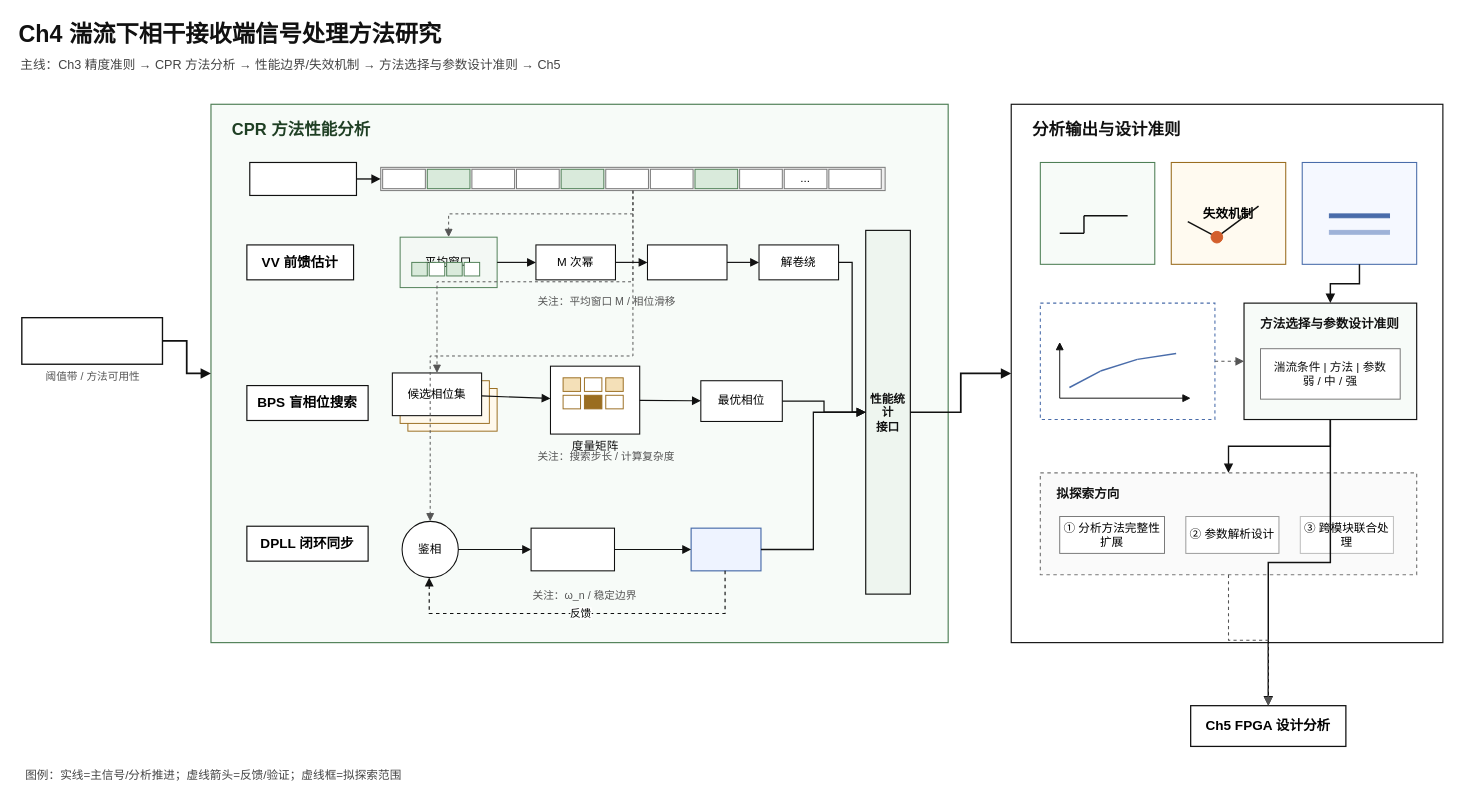
Image size: 1460x803. Some labels were removed from this diagram. The centre of each missing label's shape, as x and y in pixels:
Ch3 精度设计准则: (x=92, y=340)
NCO: (x=725, y=549)
参数敏感性: (x=1359, y=213)
性能边界: (x=1097, y=213)
接收基带序列: (x=303, y=178)
环路滤波: (x=572, y=549)
窗口平均: (x=687, y=262)
诊断面板: (x=1127, y=361)
